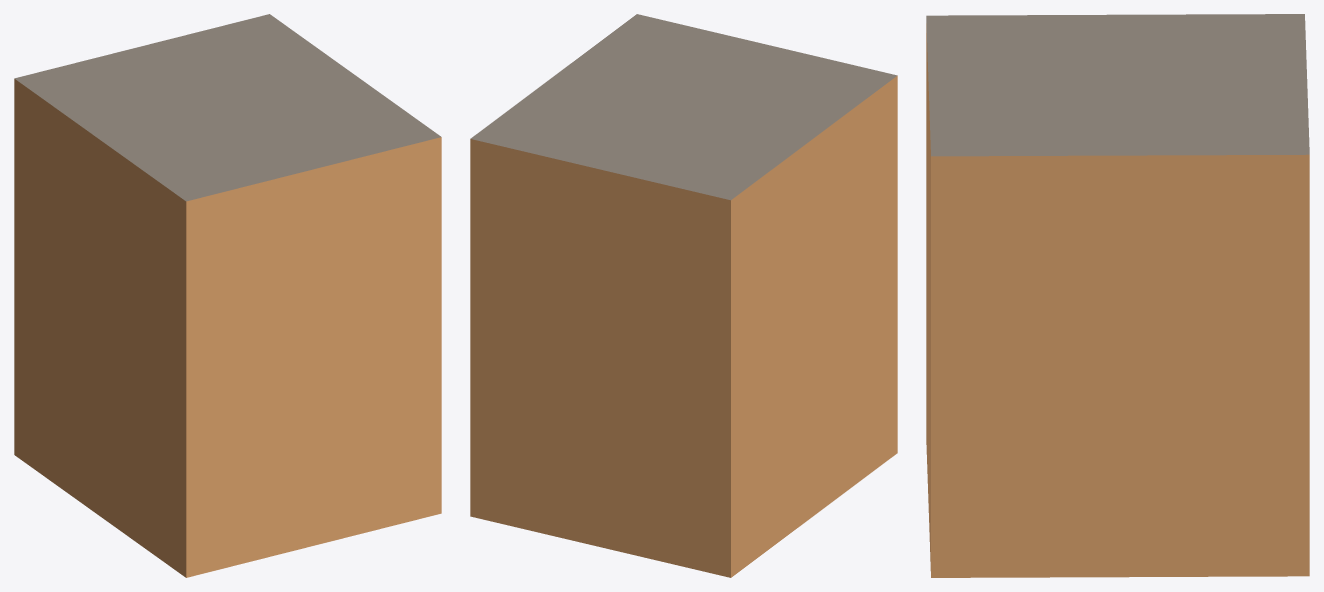
3 views of the same model, side by side, from view 1: azimuth 30°, elevation 25°; view 2: azimuth 150°, elevation 25°; view 3: azimuth 270°, elevation 25° (orthographic). The views are drawn at different scales.
Parts seen in each view (by area): view 1: element.018; view 2: element.018; view 3: element.018.
Boxes of the visible parts, x1,y1,x2,y2 form: element.018: (14,14,441,577); element.018: (470,14,897,577); element.018: (926,14,1309,577).
Bounding box in the file's own units: 15.55 × 21.47 × 17.7.
